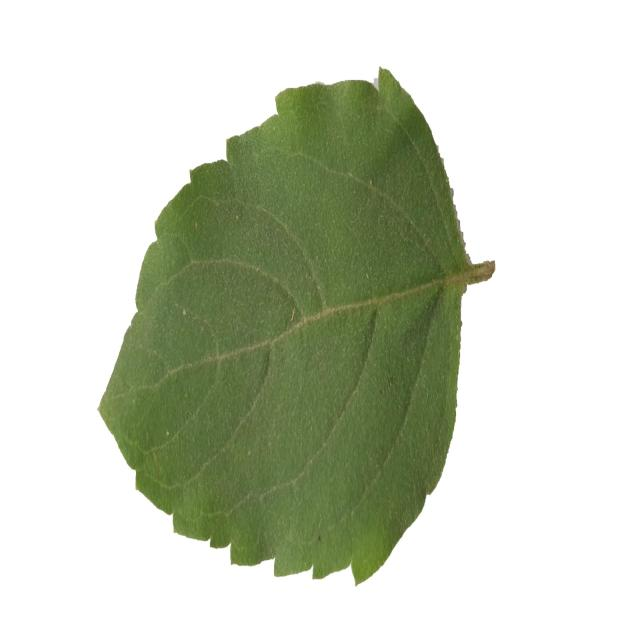tulsi: (97, 58, 496, 592)
